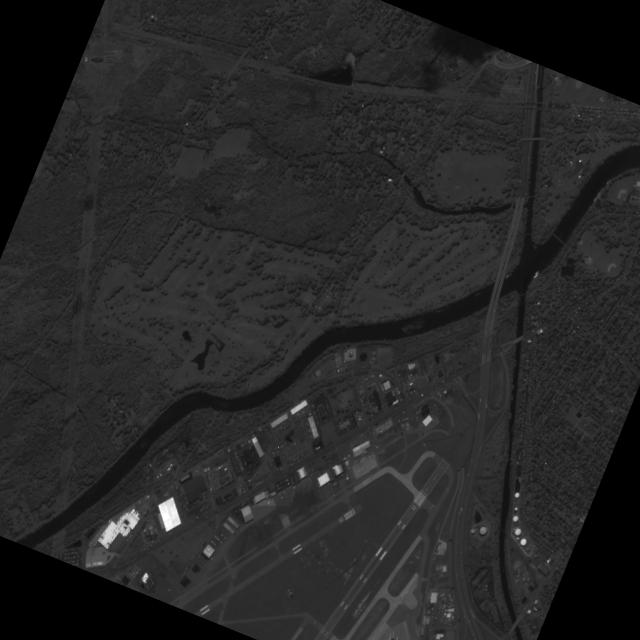plane: (341, 472, 344, 475), (267, 500, 270, 503), (214, 542, 216, 544), (211, 539, 213, 541), (220, 540, 222, 542), (214, 534, 216, 536), (221, 533, 222, 535), (224, 536, 226, 537), (218, 538, 219, 539), (211, 557, 212, 558), (213, 541, 214, 542), (216, 536, 217, 537)
storage-tank: (478, 524, 488, 534), (519, 536, 528, 546), (514, 526, 522, 535), (513, 490, 520, 498), (512, 514, 519, 521), (470, 527, 475, 533), (514, 506, 518, 509), (517, 536, 519, 538)
